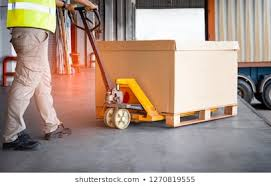Pallet Jack: (67, 5, 220, 132)
